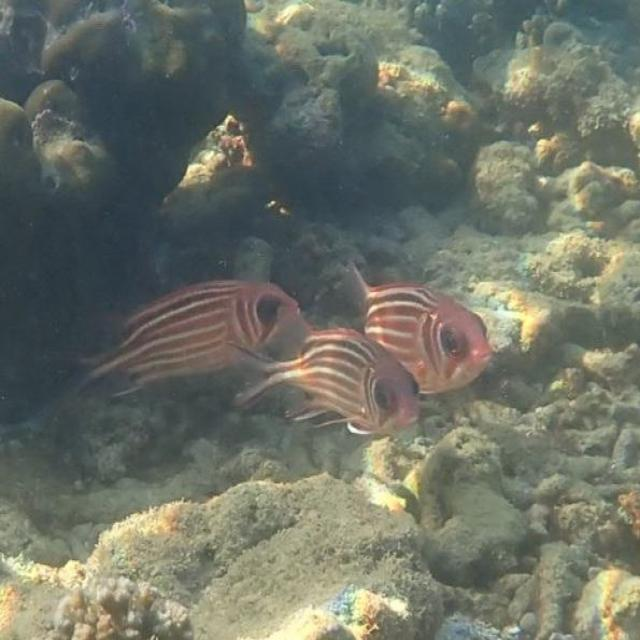Asker Baligi: (86, 267, 304, 396), (237, 318, 443, 451), (343, 256, 502, 400)
